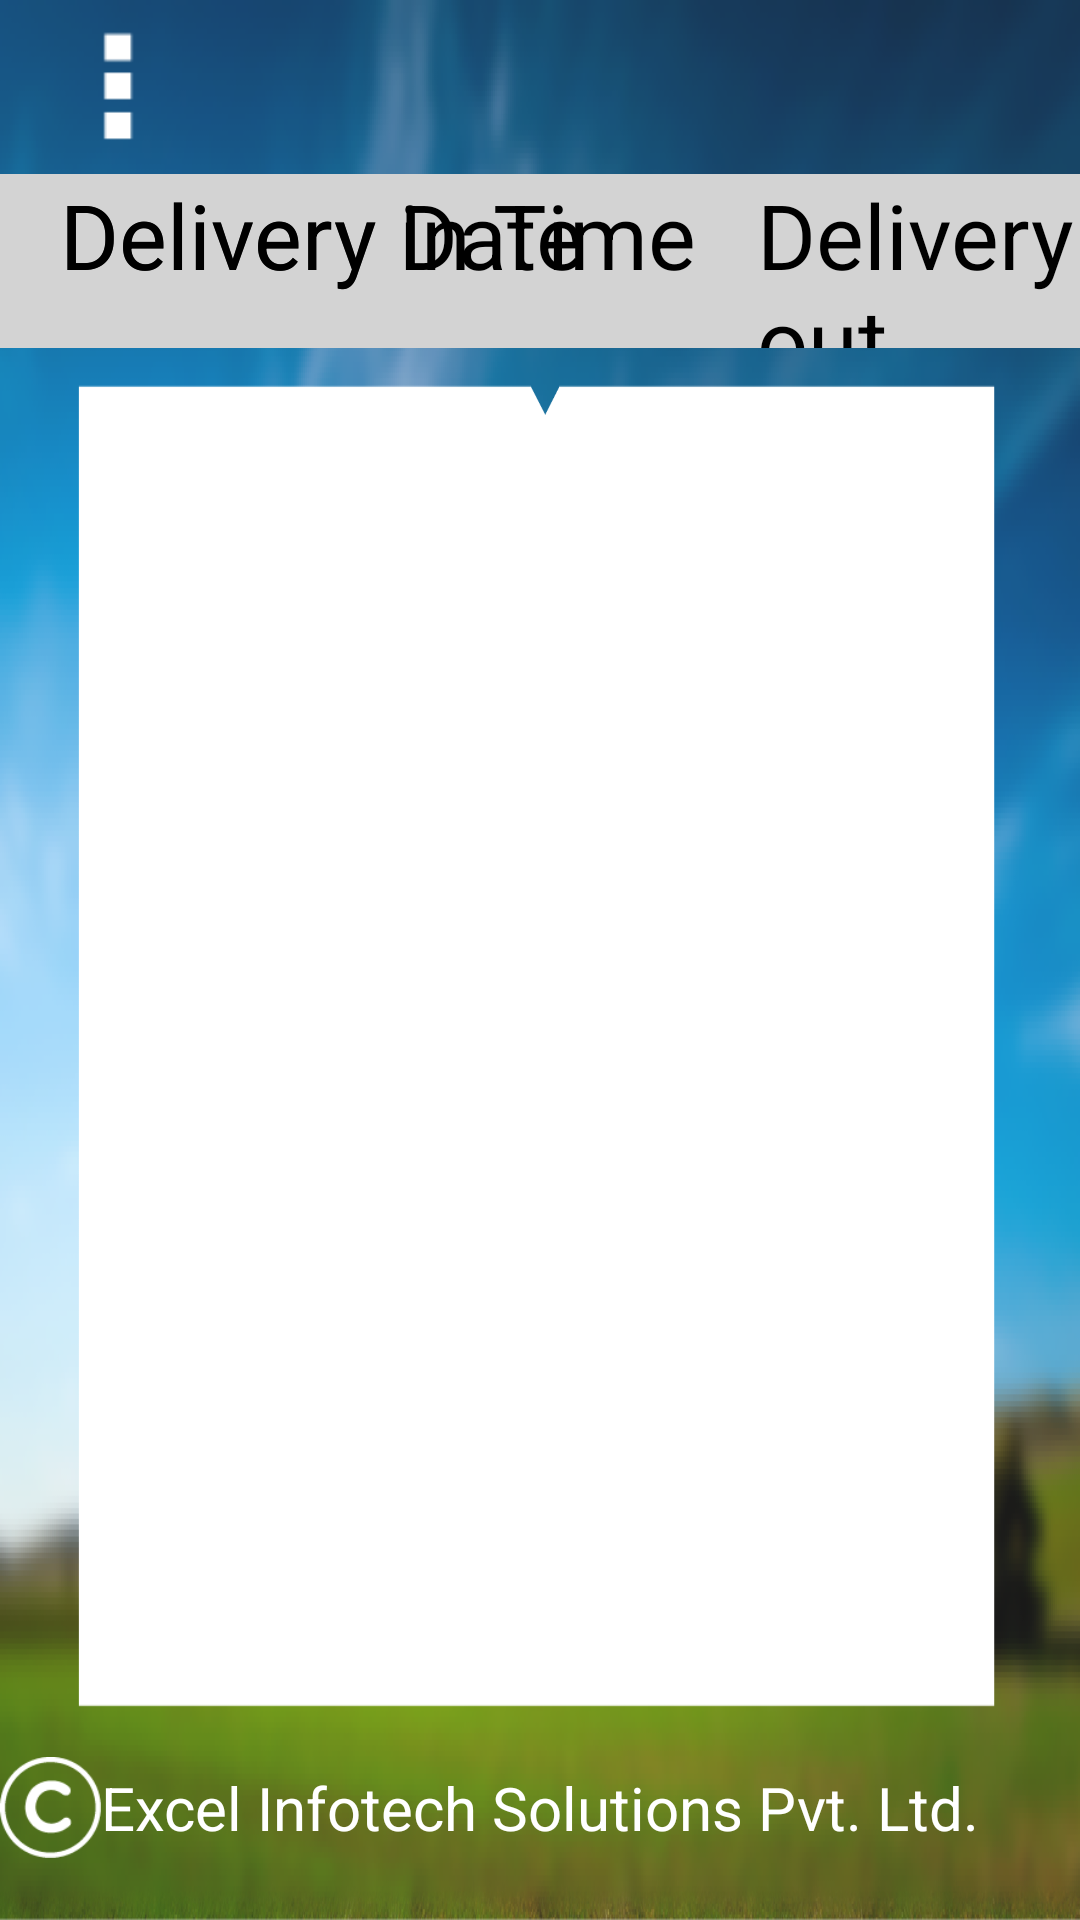

Named icons in this screenshot (1080*1920) and their centers, (x,y):
copyright: (50,1807)
menu: (118,87)
